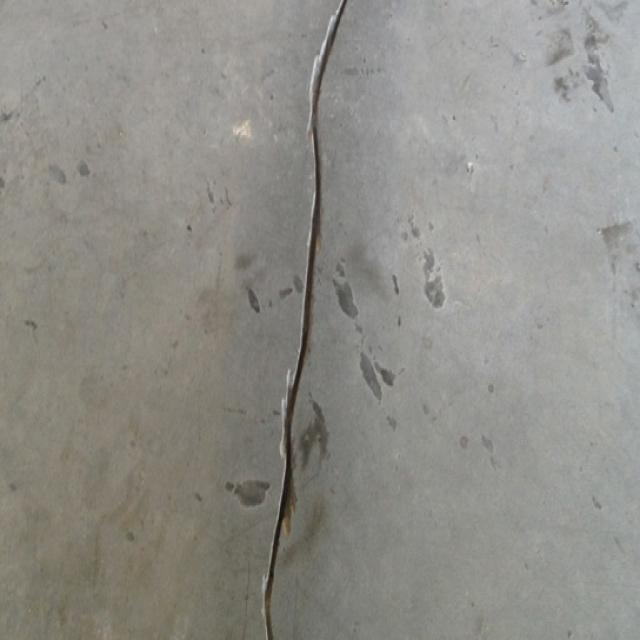crack: (258, 0, 349, 638)
